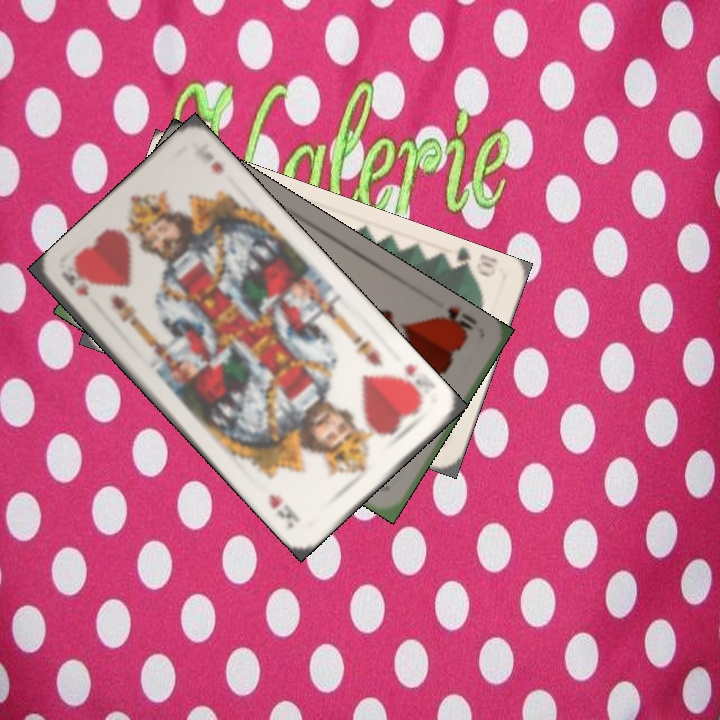G10: (443, 245, 499, 280)
HK: (394, 359, 428, 406), (58, 268, 92, 299)
HO: (431, 302, 480, 341)
